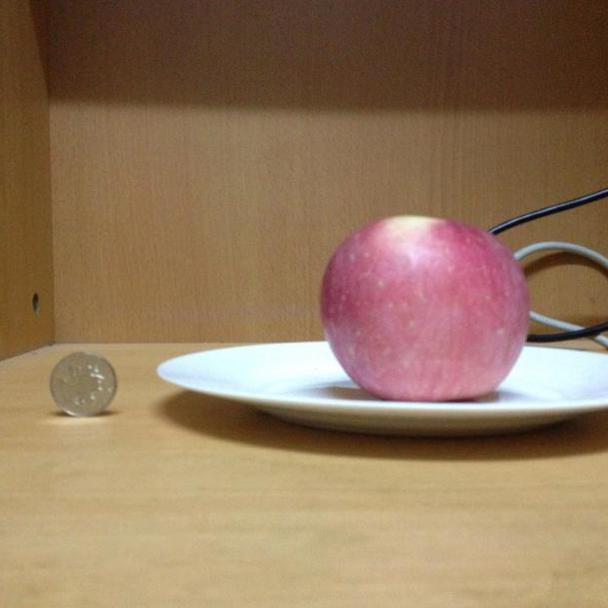apple: (316, 211, 534, 406)
